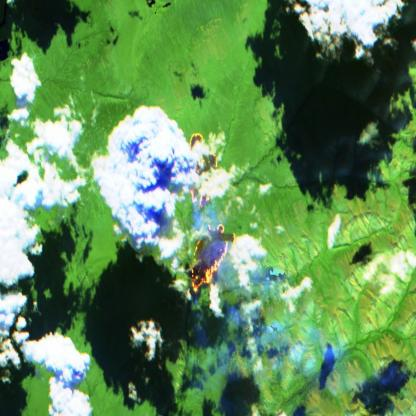fire: (186, 131, 236, 295)
